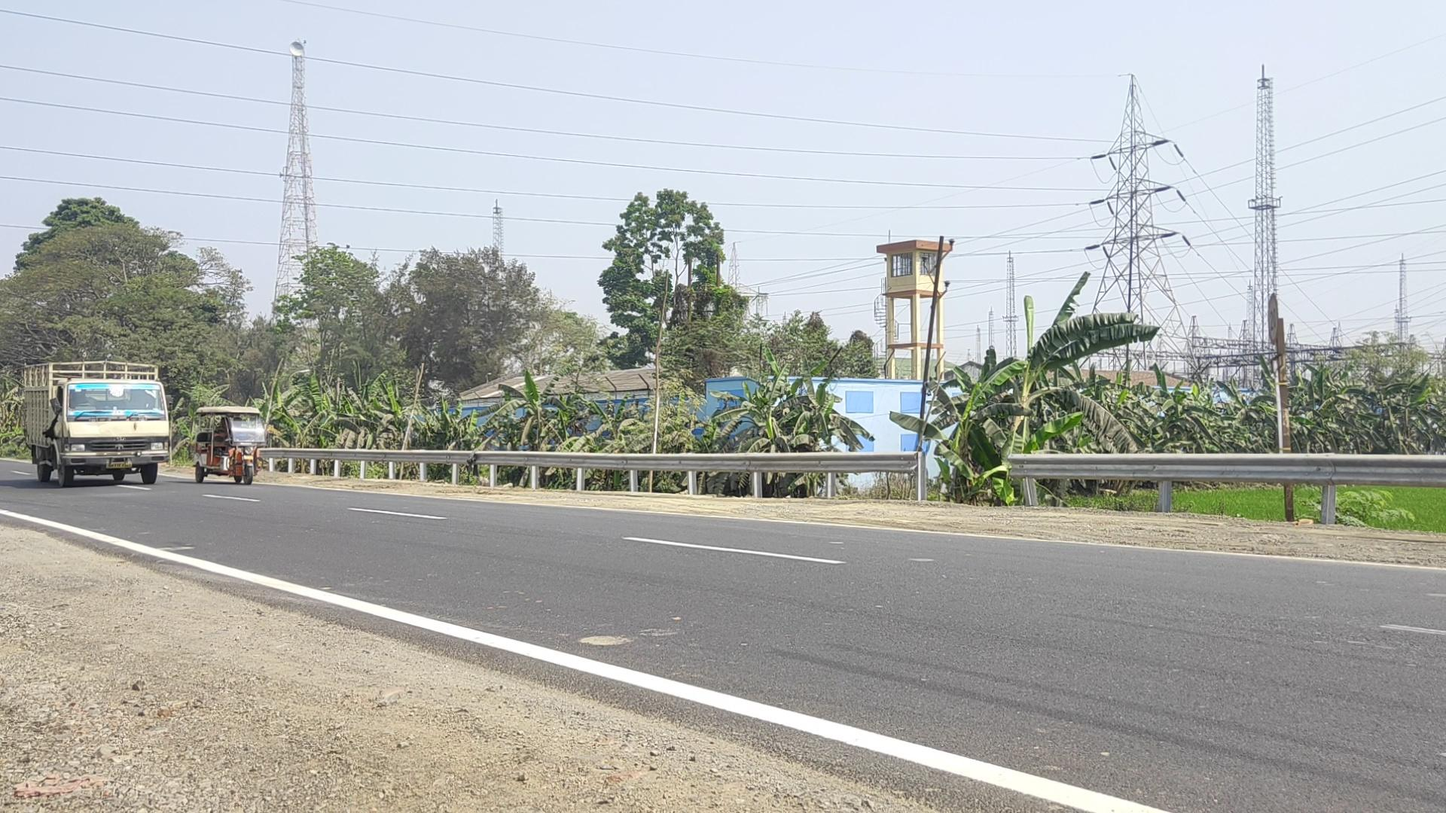Auto: (194, 406, 266, 486)
truck: (23, 360, 171, 489)
